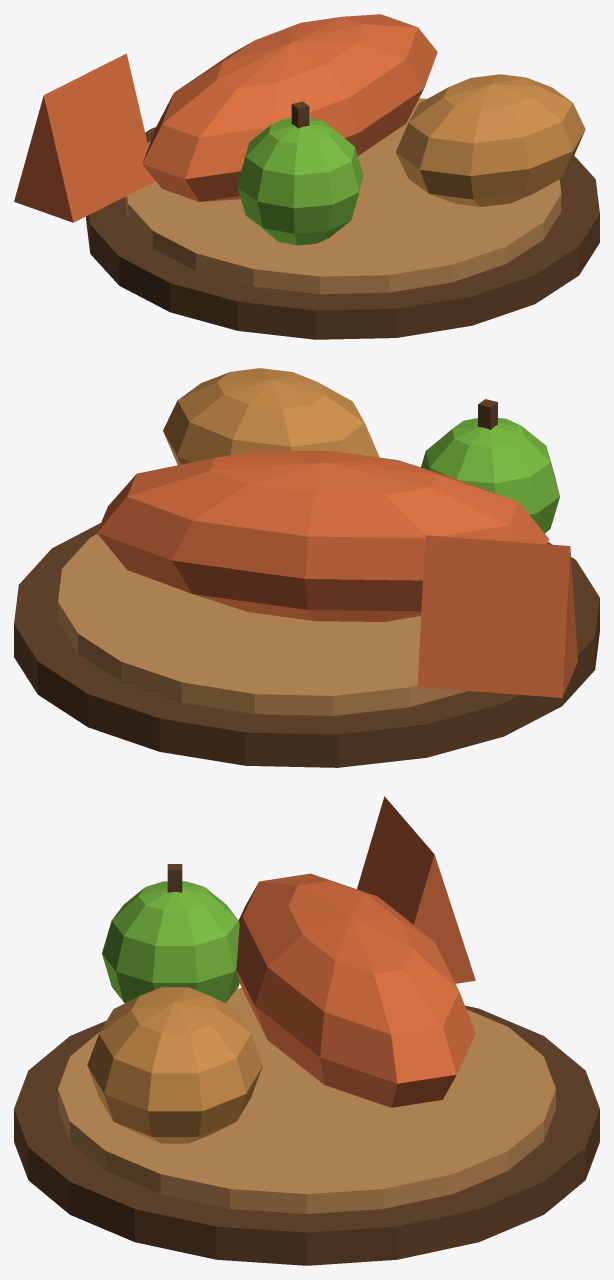
File: FoodPlatter.fbx
The picture shows the model from 3 angles, top to bottom: view 1: azimuth 30°, elevation 25°; view 2: azimuth 150°, elevation 25°; view 3: azimuth 270°, elevation 25°; orthographic projection. The views are drawn at different scales.
Parts seen in each view (by area): view 1: FoodPlatter; view 2: FoodPlatter; view 3: FoodPlatter.
Boxes of the visible parts, x1=… form: FoodPlatter: x1=14, y1=14, x2=599, y2=339; FoodPlatter: x1=14, y1=368, x2=599, y2=767; FoodPlatter: x1=14, y1=796, x2=599, y2=1265.
Size of the model in its own units: 0.4472 by 0.165 by 0.4.
